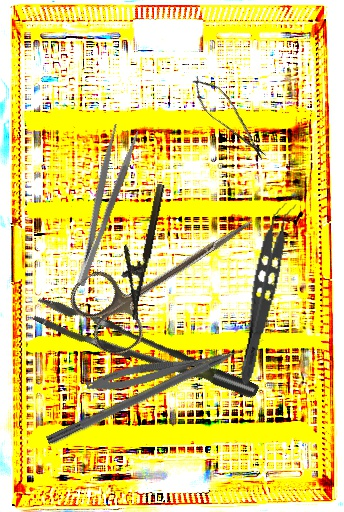Dressing Forceps: (60, 123, 142, 288)
Iris Scissors: (62, 182, 274, 364)
Micro Scissor: (184, 70, 275, 166), (84, 341, 236, 398)
Needle Holder: (109, 179, 167, 321)
Pusher: (45, 335, 267, 448)
Tissue Forceps: (29, 275, 260, 429), (235, 199, 299, 388)
